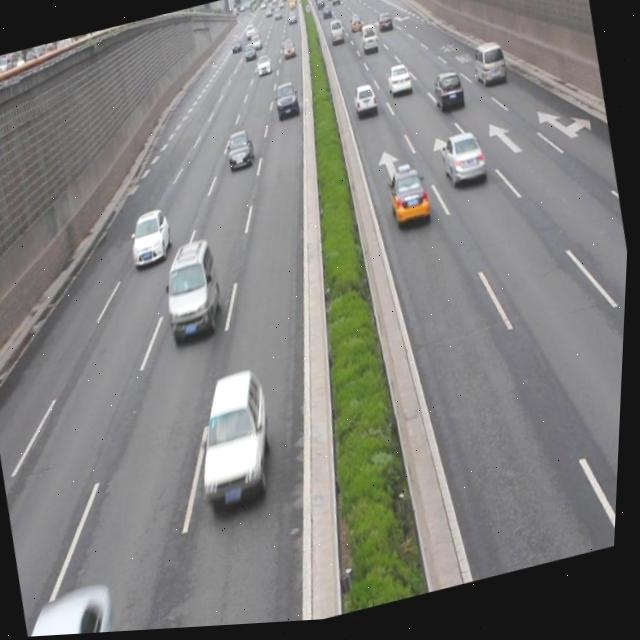car: (189, 367, 288, 514), (27, 582, 128, 638), (385, 167, 435, 235), (127, 207, 178, 271), (438, 134, 490, 195), (430, 74, 468, 121), (224, 130, 259, 177), (272, 83, 302, 124), (351, 85, 380, 122), (385, 67, 414, 103)
truck: (160, 239, 231, 344), (469, 43, 509, 95)
